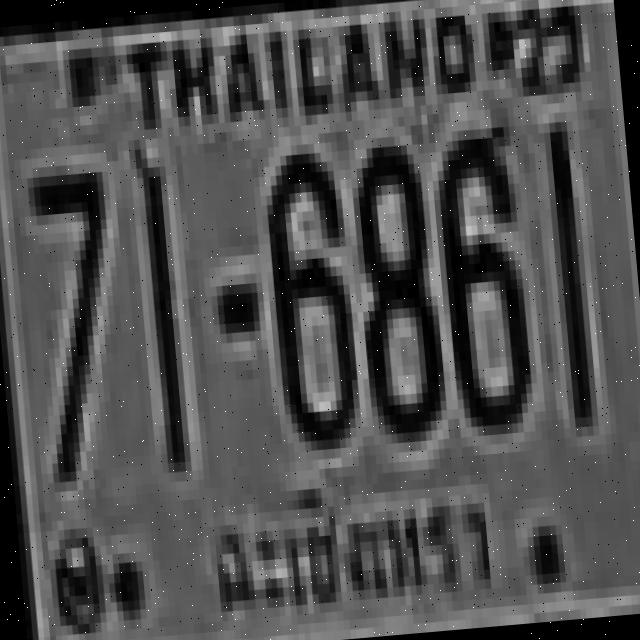1: (138, 156, 188, 462), (542, 116, 592, 422)
6: (431, 117, 532, 428), (256, 142, 356, 443)
7: (24, 167, 125, 478), (23, 162, 116, 378)
8: (348, 134, 442, 436)
Chachoengsao: (187, 456, 511, 636)
